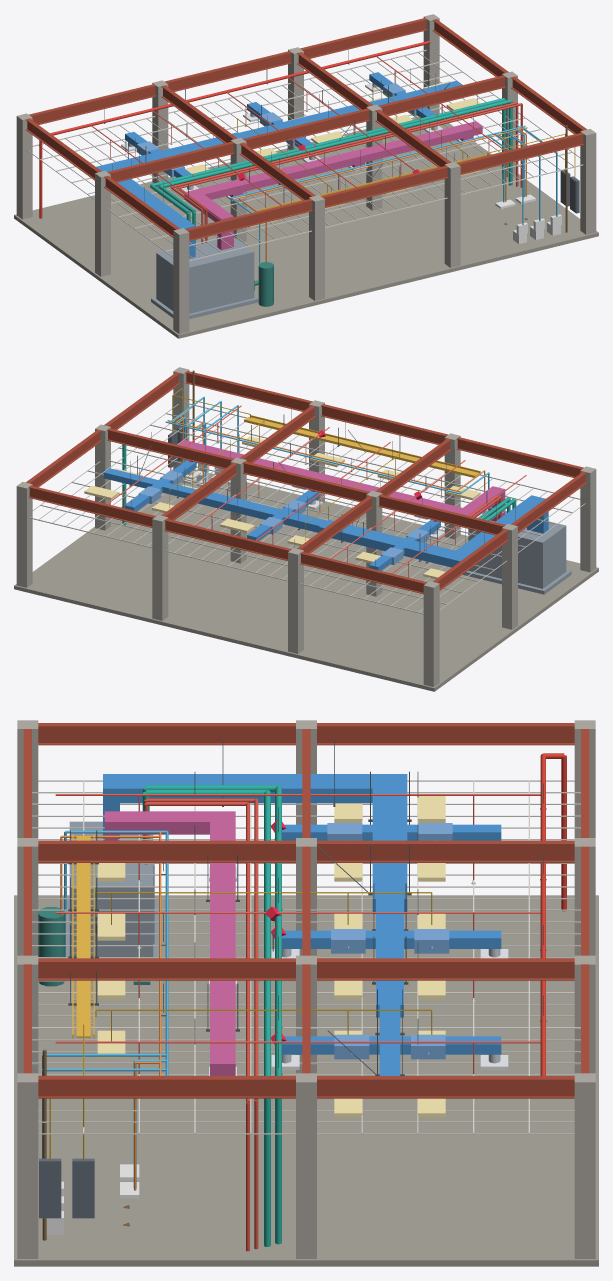
Rendered from mep-model.glb.
3 renders of one model, top to bottom at view 1: azimuth 30°, elevation 25°; view 2: azimuth 150°, elevation 25°; view 3: azimuth 270°, elevation 25°, orthographic. The views are drawn at different scales.
Visible parts, largest first — view 1: slab, beam, column, ceiling, ahu, supplyDuct, returnDuct, chw, hw, sprinklerMain, sprinklerBranch, dcw (+10 smaller); view 2: slab, beam, column, supplyDuct, ceiling, ahu, returnDuct, light, cableTray, sprinklerBranch, dcw, vav (+4 smaller); view 3: slab, beam, column, ceiling, supplyDuct, light, returnDuct, chw, ahu, vav, hw, sprinklerBranch (+10 smaller).
Part boxes in pixels (<box>): slab: <box>14,116,598,338</box>; beam: <box>25,18,586,241</box>; column: <box>16,14,596,333</box>; ceiling: <box>27,49,583,261</box>; ahu: <box>151,237,258,319</box>; supplyDuct: <box>96,72,461,258</box>; returnDuct: <box>184,121,482,250</box>; chw: <box>150,98,512,245</box>; hw: <box>170,102,522,243</box>; sprinklerMain: <box>39,40,430,218</box>; sprinklerBranch: <box>91,56,505,224</box>; dcw: <box>230,125,557,263</box>; slab: <box>14,469,598,691</box>; beam: <box>26,371,587,593</box>; column: <box>16,367,596,686</box>; supplyDuct: <box>103,460,548,570</box>; ceiling: <box>29,402,585,614</box>; ahu: <box>463,510,571,594</box>; returnDuct: <box>178,440,505,521</box>; light: <box>84,436,480,579</box>; cableTray: <box>244,415,480,477</box>; sprinklerBranch: <box>107,405,526,577</box>; dcw: <box>165,396,489,509</box>; vav: <box>138,470,428,564</box>; slab: <box>14,895,598,1266</box>; beam: <box>23,723,589,1098</box>; column: <box>17,720,595,1258</box>; ceiling: <box>32,780,580,1134</box>; supplyDuct: <box>103,774,501,1075</box>; light: <box>97,796,445,1117</box>; returnDuct: <box>104,811,235,1075</box>; chw: <box>142,785,281,1246</box>; ahu: <box>62,821,158,956</box>; vav: <box>327,823,452,1059</box>; hw: <box>144,798,258,1251</box>; sprinklerBranch: <box>55,794,540,1074</box>.
Size of the model in its own units: 0.4724 by 0.1286 by 0.32.
